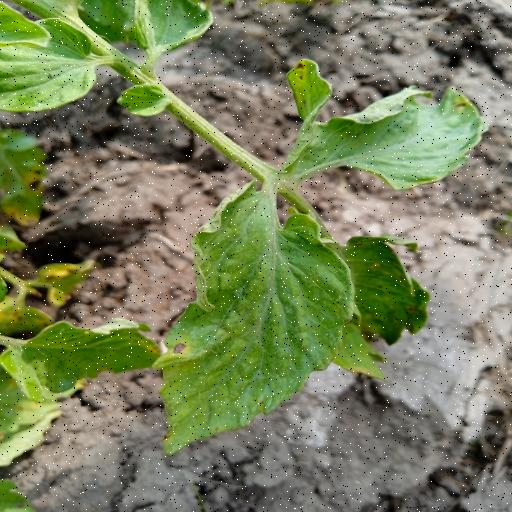Tomato_Brown_Spots: (148, 182, 370, 463), (288, 56, 490, 188), (0, 314, 162, 400)
